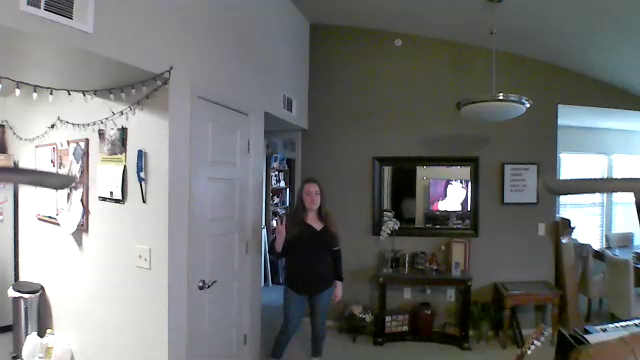peace: (272, 209, 293, 245)
